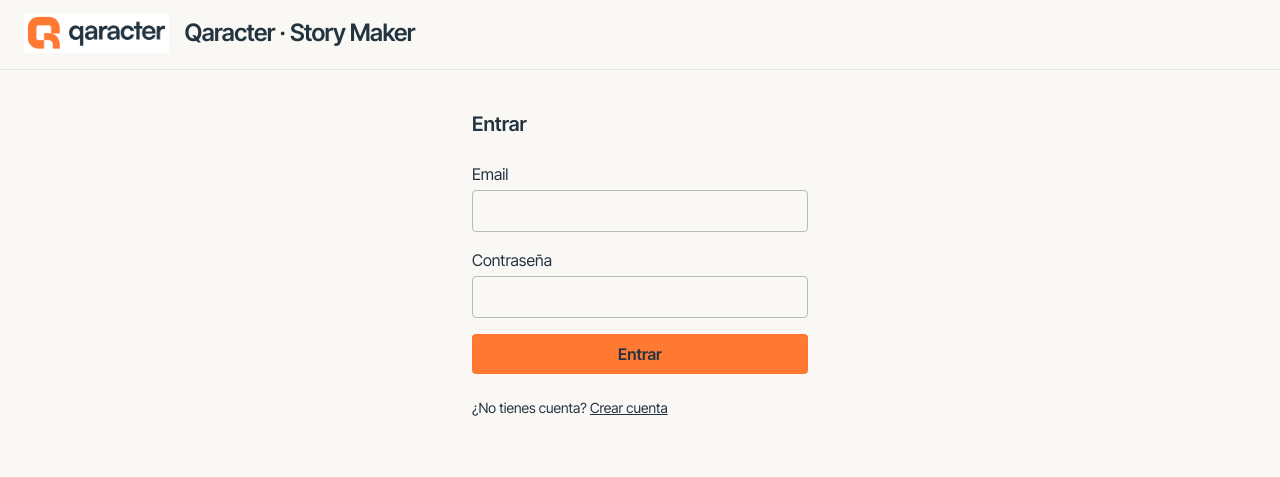
Scenario: 023 mis novelas › 023-C17: a valid access ends up on "mis novelas" with the list
Type "persona@example.com" into the field labelled "Email".
click(640, 211); type("persona@example.com")  # box left=472, top=190, right=808, bottom=232
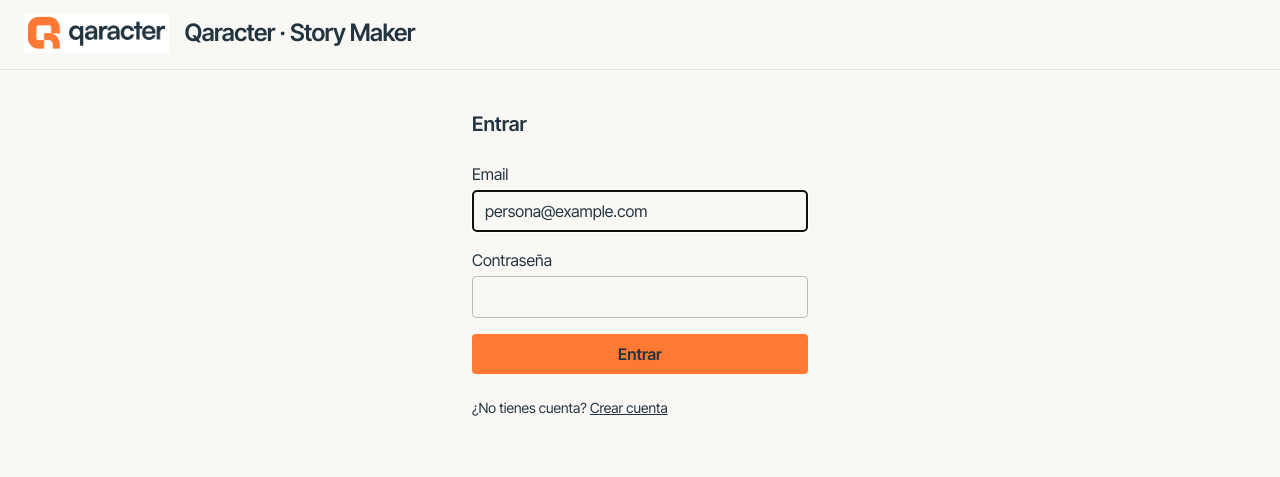
Type "contrasena-de-prueba" into the password field labelled "Contraseña".
click(640, 297); type("contrasena-de-prueba")  # box left=472, top=276, right=808, bottom=318
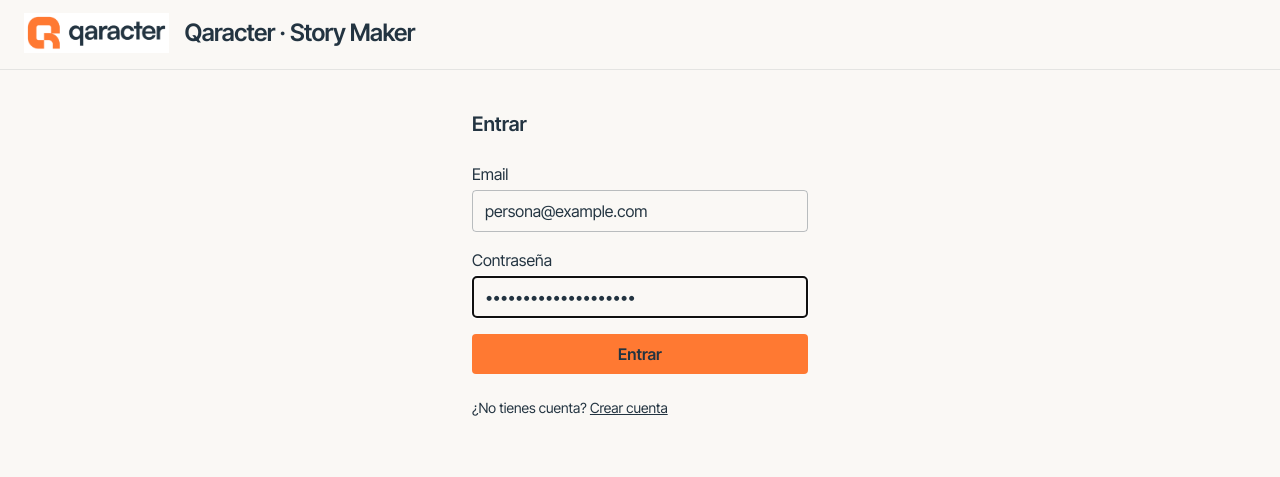
Click the button "Entrar".
click(640, 354)  # box left=472, top=334, right=808, bottom=374
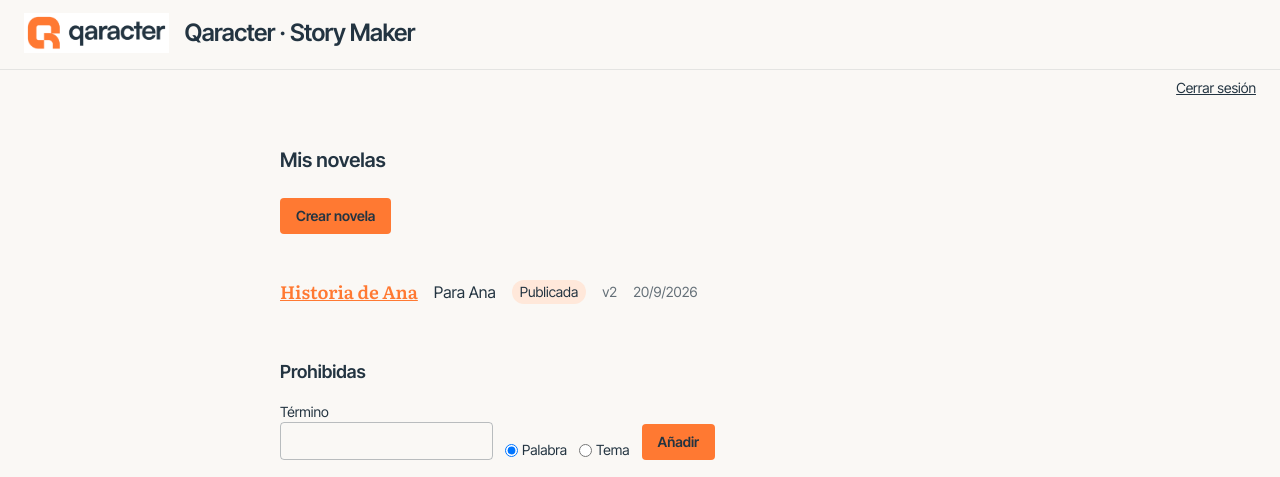
Expected: the heading "Mis novelas" is shown, left=280, top=148, right=386, bottom=172
Expected: the link "Historia de Ana" is shown, left=280, top=278, right=418, bottom=306
